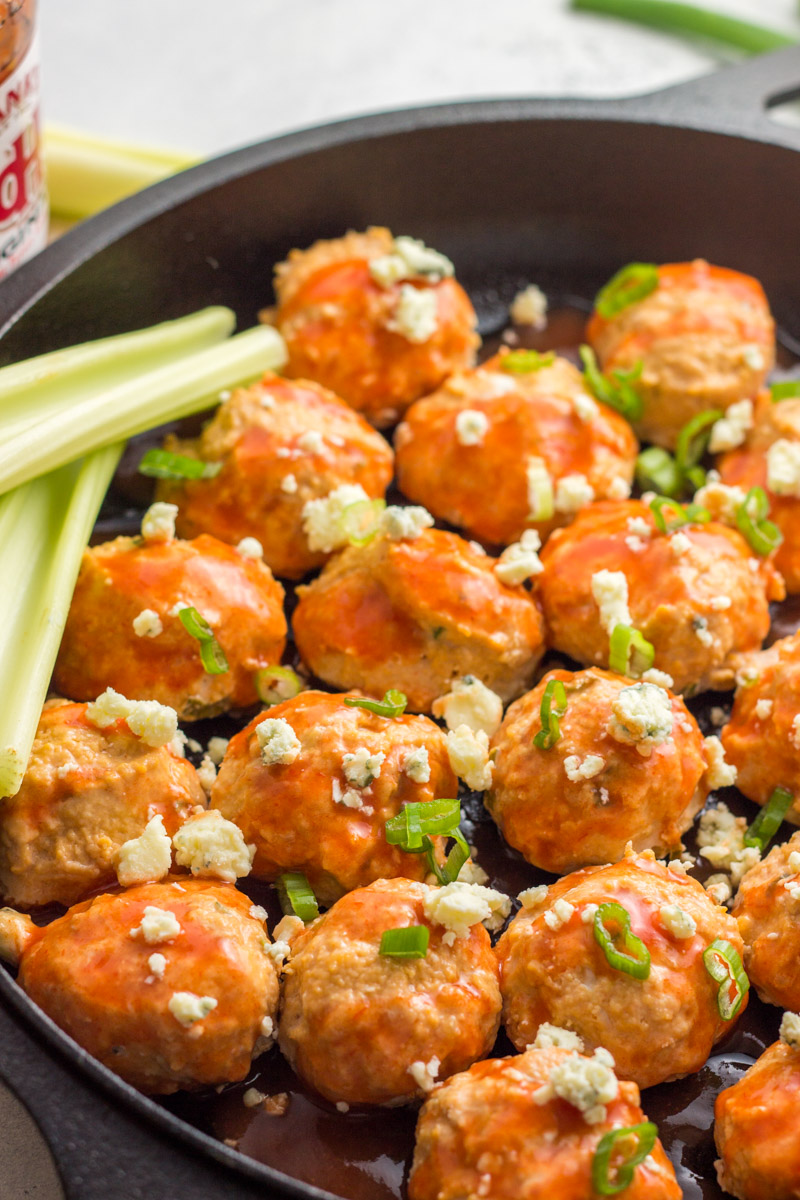meatballs: (270, 894, 492, 1097), (75, 882, 271, 1090), (519, 866, 730, 1059), (15, 701, 221, 894), (245, 699, 458, 878), (408, 359, 620, 519), (307, 540, 526, 692), (421, 1070, 664, 1200), (501, 686, 684, 856), (92, 537, 277, 704), (293, 230, 469, 400), (563, 510, 753, 662), (602, 256, 771, 417), (206, 385, 380, 541)
